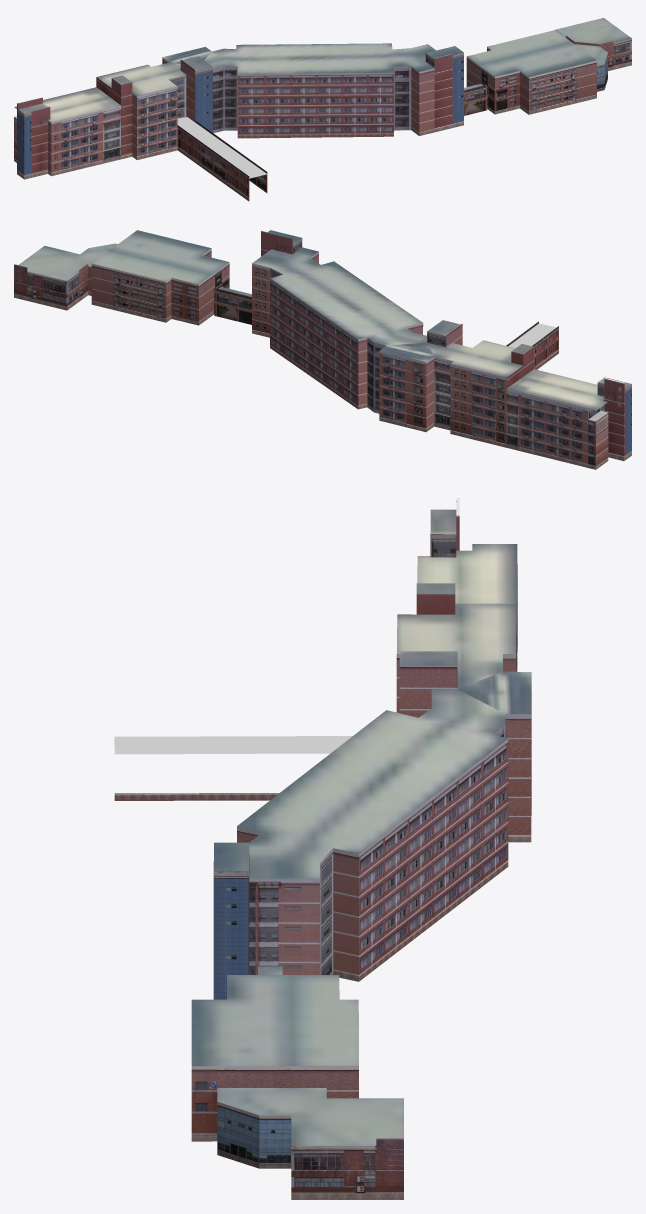
Rendered from jxl_f.gltf.
3 renders of one model, top to bottom at view 1: azimuth 30°, elevation 25°; view 2: azimuth 150°, elevation 25°; view 3: azimuth 270°, elevation 25°, orthographic. The views are drawn at different scales.
Parts seen in each view (by area): view 1: Mesh01#22, Mesh03#18; view 2: Mesh01#22, Mesh03#18; view 3: Mesh01#22, Mesh03#18.
Boxes of the visible parts, <box> form: Mesh01#22: <box>14,43,463,201</box>; Mesh03#18: <box>464,18,631,115</box>; Mesh01#22: <box>252,230,631,469</box>; Mesh03#18: <box>14,230,251,325</box>; Mesh01#22: <box>114,498,531,999</box>; Mesh03#18: <box>191,966,403,1199</box>.
Bounding box in the file's own units: 0.2056 × 0.0275 × 0.0649.
12 materials, 8 textured.
